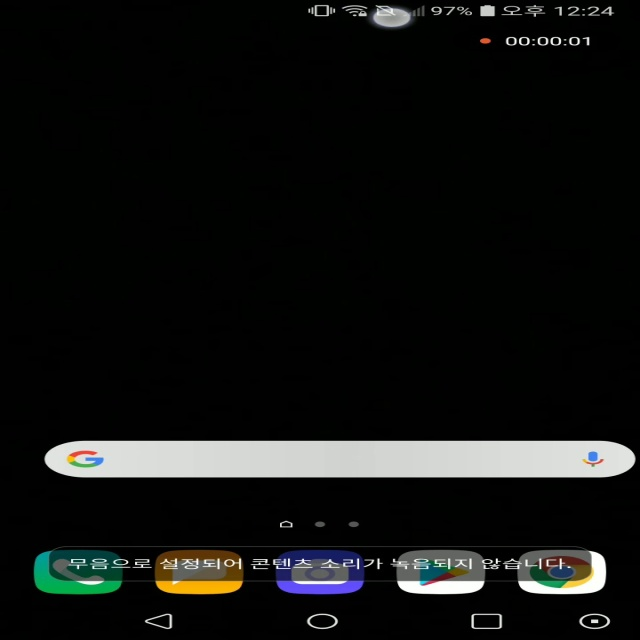Cursor: (370, 7, 415, 29)
